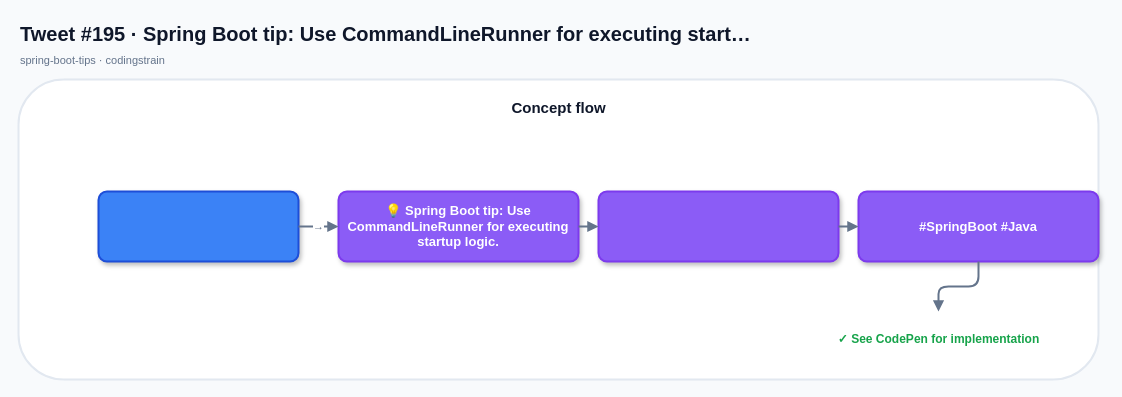
This 1122x397 diagram has some shape labels left out. Here are the shapes that lost their labels. From the top down, the centre of each, then its label:
At point 199,227: "Problem / context".
At point 719,227: "CommandLineRunner is a Spring Boot interface that can be implemented t".
